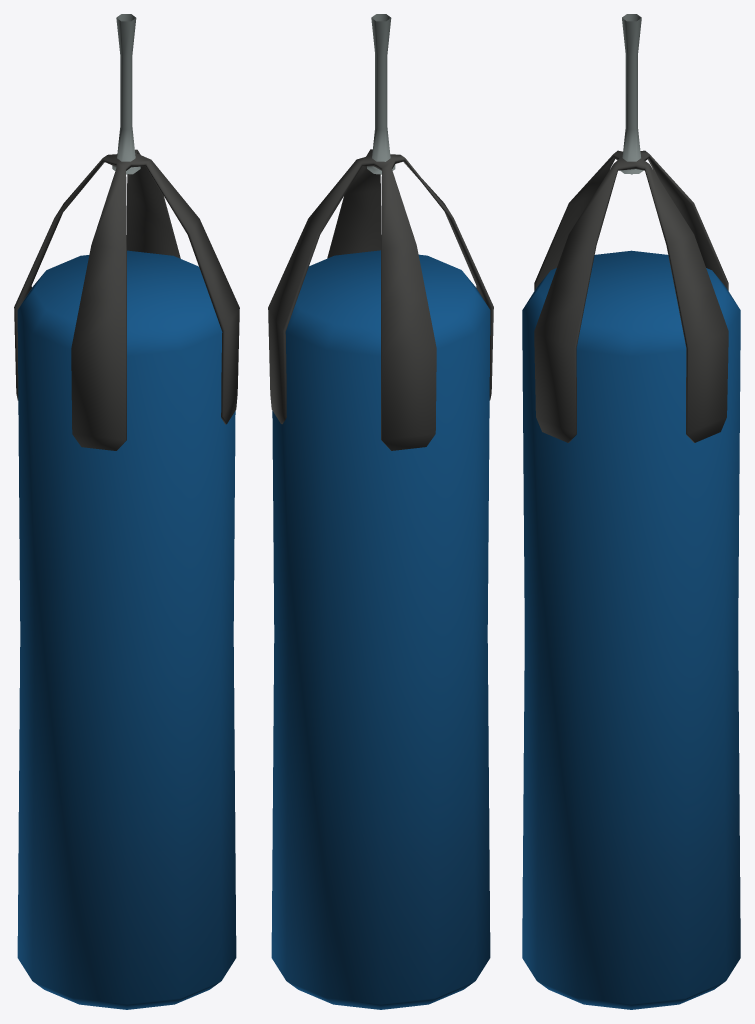
File: punching_bag_2.glb
The picture shows the model from 3 angles, left to right: view 1: azimuth 30°, elevation 25°; view 2: azimuth 150°, elevation 25°; view 3: azimuth 270°, elevation 25°; orthographic projection.
Parts seen in each view (by area): view 1: GymEquipments_23; view 2: GymEquipments_23; view 3: GymEquipments_23.
Part boxes in pixels (x1,y1,x2,y2): GymEquipments_23: (14,14,239,1009); GymEquipments_23: (268,14,493,1009); GymEquipments_23: (522,14,740,1009).
Bounding box in the file's own units: 0.227 × 1.09 × 0.227.
1 material, 1 textured.
